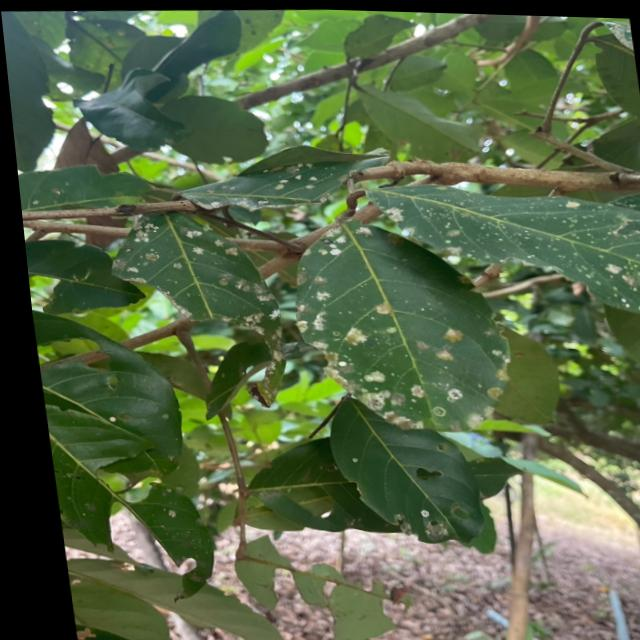Algal Leaf Spot: (275, 222, 498, 453), (386, 160, 640, 326), (112, 193, 271, 319), (181, 160, 362, 187)
